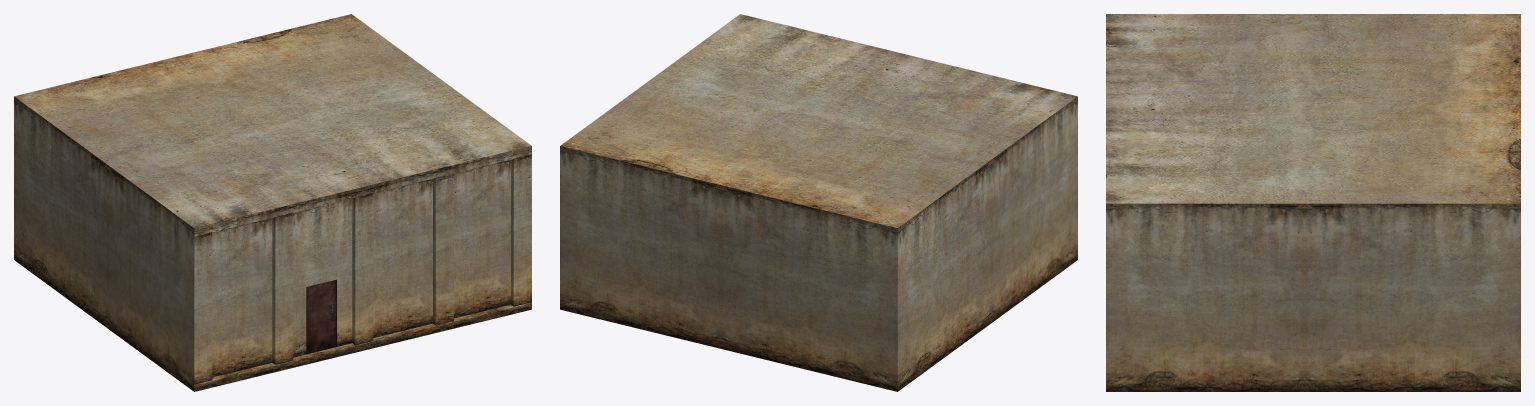
File: BuildingE.fbx
3 renders of one model, left to right at view 1: azimuth 30°, elevation 25°; view 2: azimuth 150°, elevation 25°; view 3: azimuth 270°, elevation 25°, orthographic. The views are drawn at different scales.
Visible parts, largest first — view 1: BuildingE; view 2: BuildingE; view 3: BuildingE.
Part boxes in pixels (x1,y1,x2,y2): BuildingE: [14, 14, 531, 391]; BuildingE: [560, 14, 1077, 391]; BuildingE: [1106, 14, 1520, 391].
Bounding box in the file's own units: 1154 × 535 × 1067.
